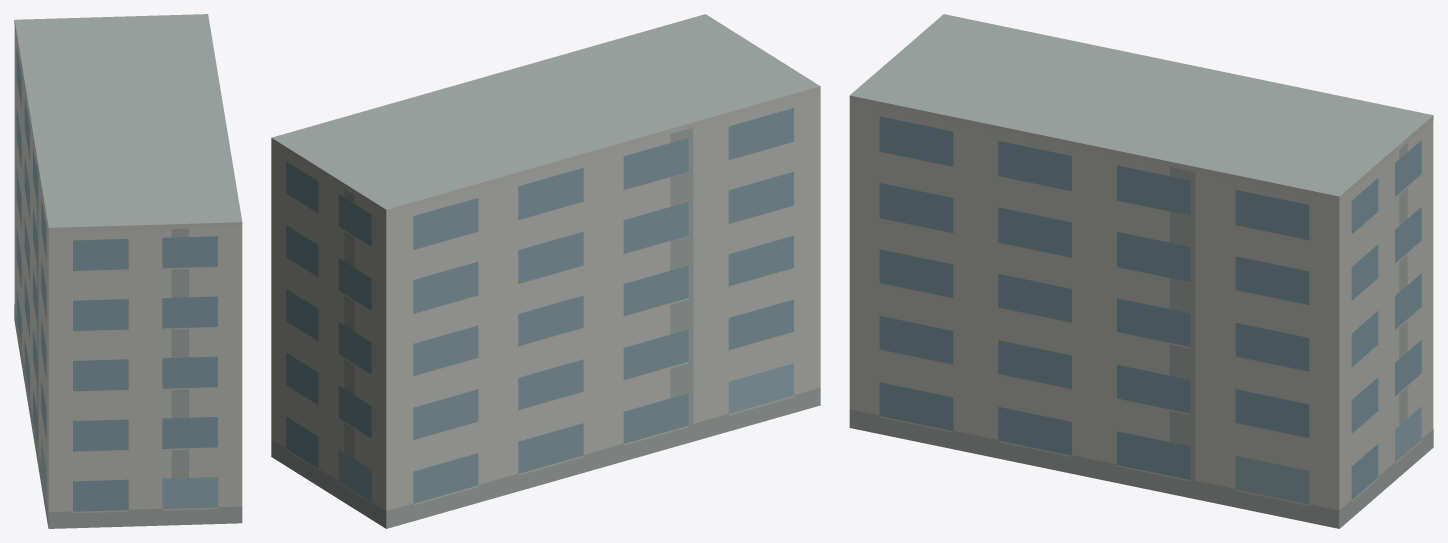
Rendered from residential-626b18e1-62a8-419f-8338-316e39b2e7c1.glb.
The picture shows the model from 3 angles, left to right: view 1: azimuth 30°, elevation 25°; view 2: azimuth 150°, elevation 25°; view 3: azimuth 270°, elevation 25°; orthographic projection. The views are drawn at different scales.
Parts seen in each view (by area): view 1: residential-626b18e1-62a8-419f-8338-316e39b2e7c1.tmp; view 2: residential-626b18e1-62a8-419f-8338-316e39b2e7c1.tmp; view 3: residential-626b18e1-62a8-419f-8338-316e39b2e7c1.tmp.
Part boxes in pixels (bbox=[...]): residential-626b18e1-62a8-419f-8338-316e39b2e7c1.tmp: bbox=[14, 14, 242, 528]; residential-626b18e1-62a8-419f-8338-316e39b2e7c1.tmp: bbox=[271, 14, 820, 528]; residential-626b18e1-62a8-419f-8338-316e39b2e7c1.tmp: bbox=[849, 14, 1433, 528].
Bounding box in the file's own units: 17.97 × 15.25 × 24.29.
